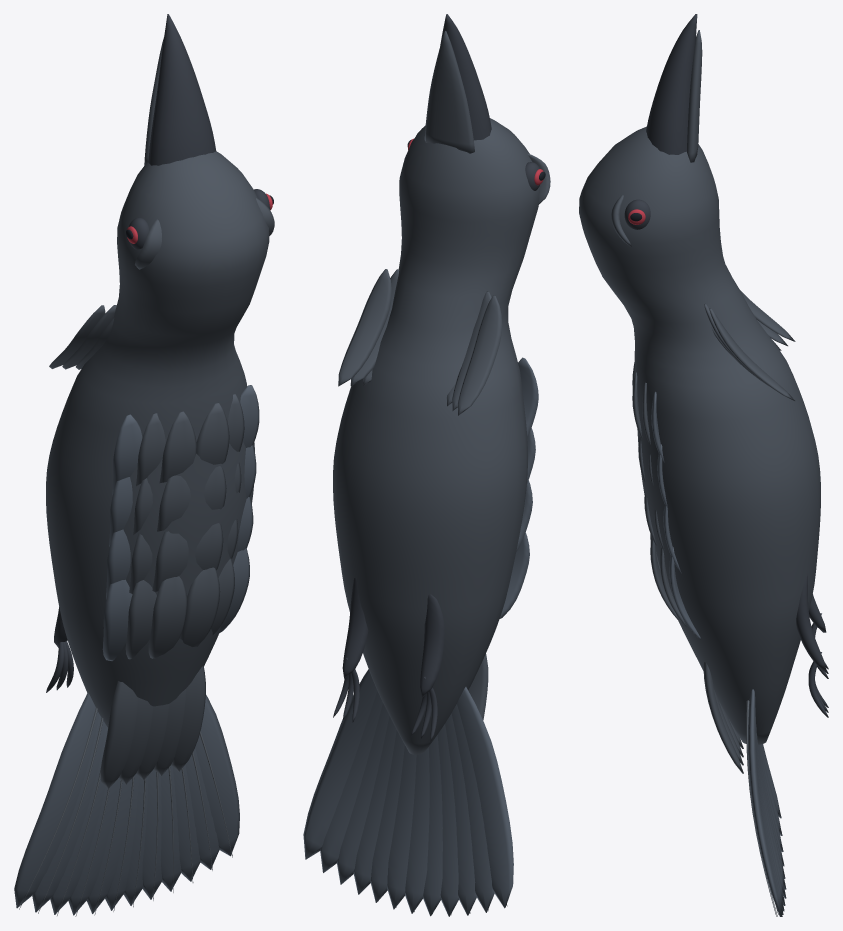
File: body.glb
The picture shows the model from 3 angles, left to right: view 1: azimuth 30°, elevation 25°; view 2: azimuth 150°, elevation 25°; view 3: azimuth 270°, elevation 25°; orthographic projection. The views are drawn at different scales.
Parts seen in each view (by area): view 1: body-0, body-1, body-3, body-6; view 2: body-0, body-1, body-3; view 3: body-0, body-3, body-1.
Boxes of the visible parts, x1,y1,x2,y2 form: body-0: (46, 38, 274, 788); body-1: (14, 385, 259, 915); body-3: (46, 14, 269, 692); body-6: (19, 707, 232, 916); body-0: (333, 30, 550, 754); body-1: (303, 357, 538, 916); body-3: (333, 14, 539, 741); body-0: (579, 30, 820, 773); body-3: (624, 14, 828, 717); body-1: (651, 391, 786, 916).
Bounding box in the file's own units: 0.7 × 2.76 × 0.7104.
